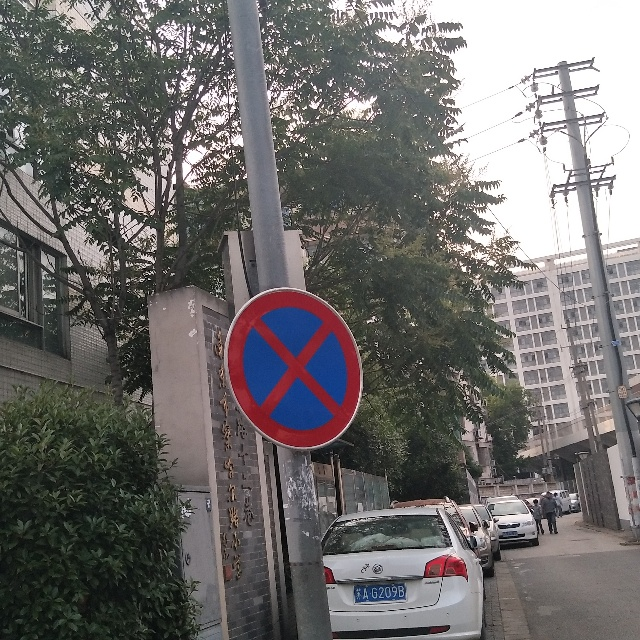stop: (242, 302, 363, 436)
